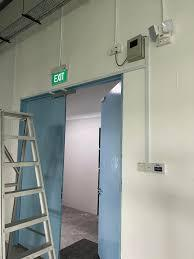exit: (17, 76, 122, 258)
lit_exit_sign: (51, 68, 67, 85)
